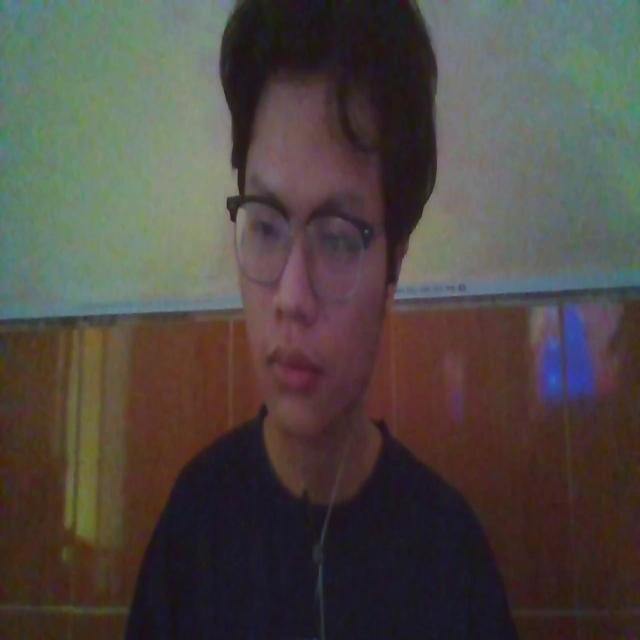student: (110, 2, 518, 640)
